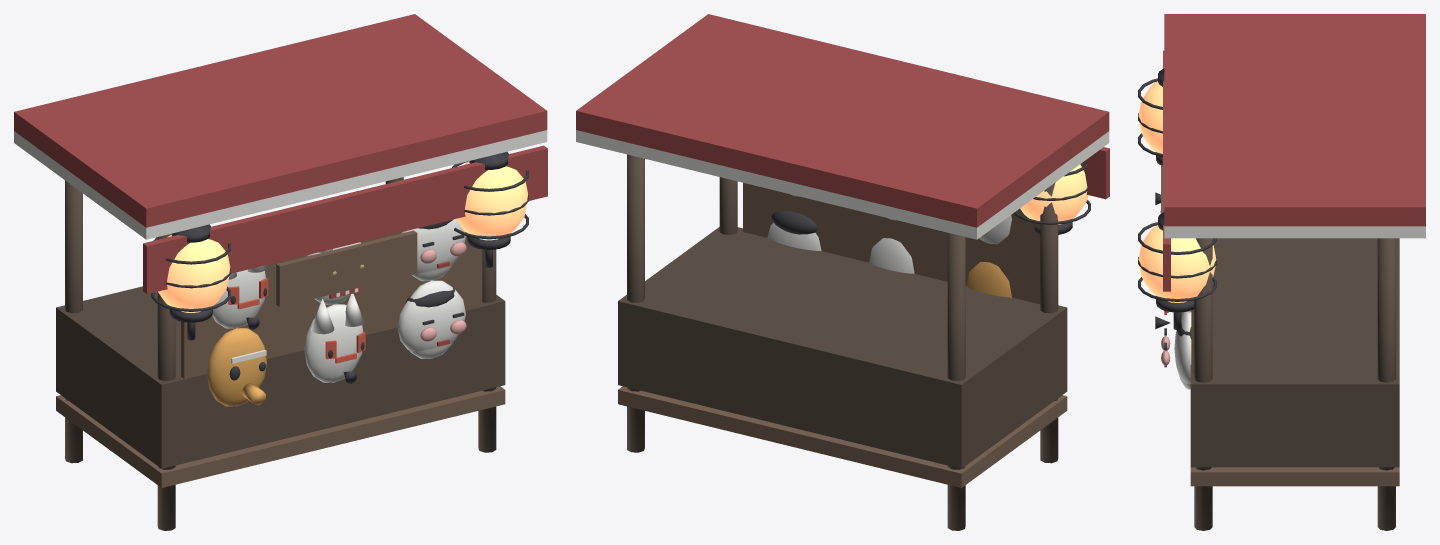
The model's file is prop_omenya.glb.
3 views of the same model, side by side, from view 1: azimuth 30°, elevation 25°; view 2: azimuth 150°, elevation 25°; view 3: azimuth 270°, elevation 25° (orthographic).
Parts seen in each view (by area): view 1: omenya; view 2: omenya; view 3: omenya.
Part boxes in pixels (bbox=[...]): omenya: bbox=[14, 14, 547, 530]; omenya: bbox=[576, 14, 1109, 530]; omenya: bbox=[1138, 14, 1425, 530].
Bounding box in the file's own units: 3.5 × 2.86 × 2.2.
